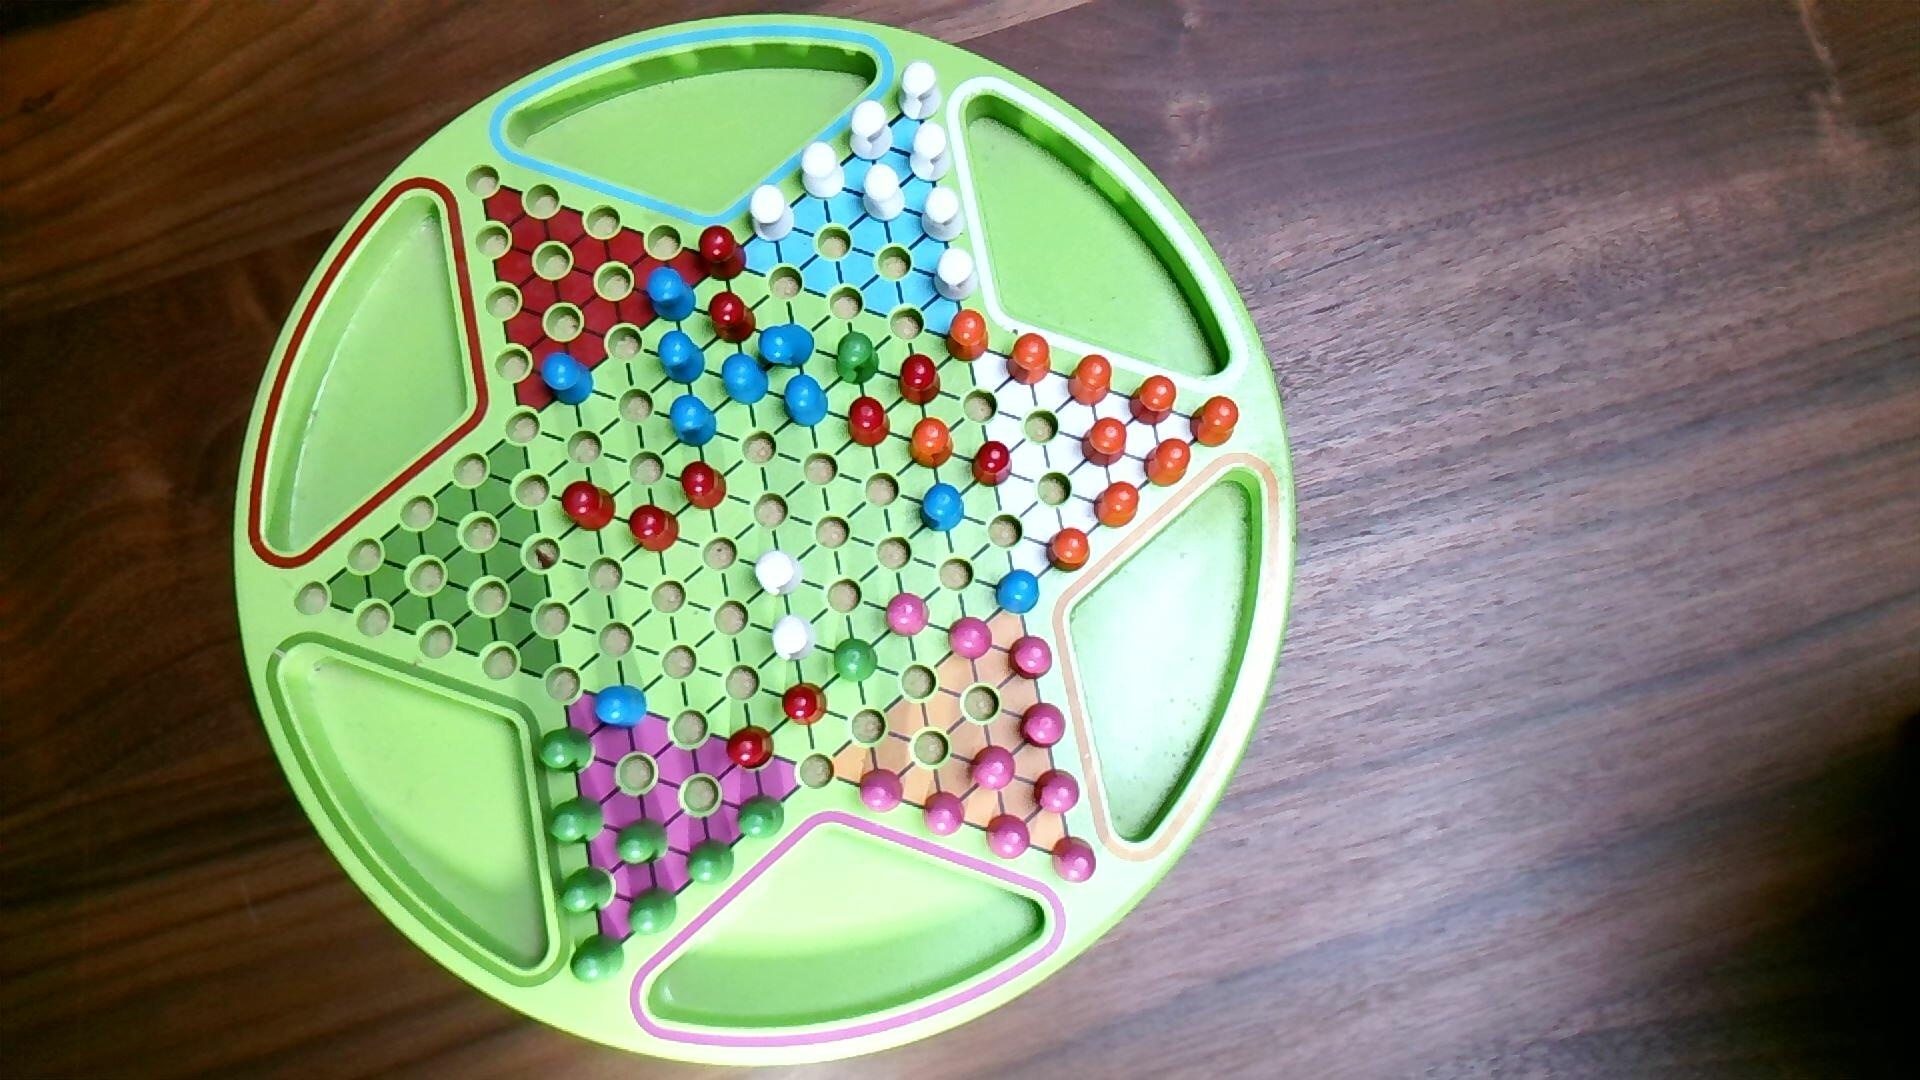B: (541, 349, 596, 409), (655, 328, 707, 386), (646, 266, 698, 324), (758, 322, 818, 372), (670, 394, 719, 450), (723, 352, 771, 407), (918, 481, 967, 535), (782, 375, 831, 429), (592, 684, 649, 731), (996, 568, 1042, 617)
G: (545, 793, 608, 848), (535, 725, 596, 777), (568, 932, 626, 985), (558, 865, 616, 916), (626, 885, 680, 939), (616, 818, 673, 869), (835, 328, 882, 386), (735, 793, 787, 843), (686, 837, 737, 887), (832, 637, 881, 684)
O: (1188, 394, 1241, 450), (1127, 375, 1179, 429), (909, 415, 957, 472), (1006, 332, 1054, 389), (944, 310, 992, 367), (1080, 415, 1129, 469), (1143, 436, 1192, 489), (1067, 353, 1114, 407), (1093, 480, 1142, 531), (1044, 527, 1093, 575)
R: (560, 479, 618, 533), (698, 224, 749, 285), (626, 502, 682, 556), (707, 290, 758, 347), (895, 352, 944, 409), (680, 459, 729, 513), (727, 723, 777, 771), (847, 394, 891, 448), (971, 440, 1015, 491), (782, 682, 829, 728)
R2: (1018, 700, 1068, 752), (1033, 767, 1083, 818), (1051, 835, 1098, 887), (969, 742, 1018, 793), (947, 615, 996, 663), (985, 814, 1033, 862), (1007, 634, 1055, 683), (858, 767, 905, 816), (885, 593, 932, 640), (923, 790, 967, 837)
W: (895, 61, 945, 123), (861, 162, 909, 225), (849, 99, 895, 162), (909, 120, 953, 185), (748, 185, 796, 244), (920, 185, 967, 245), (934, 247, 981, 305), (800, 142, 847, 200), (754, 549, 806, 600), (771, 613, 818, 665)
